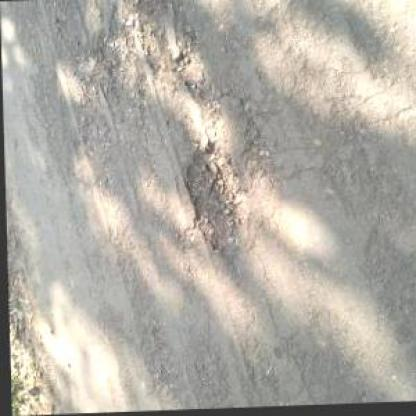pothole: (179, 141, 243, 261)
